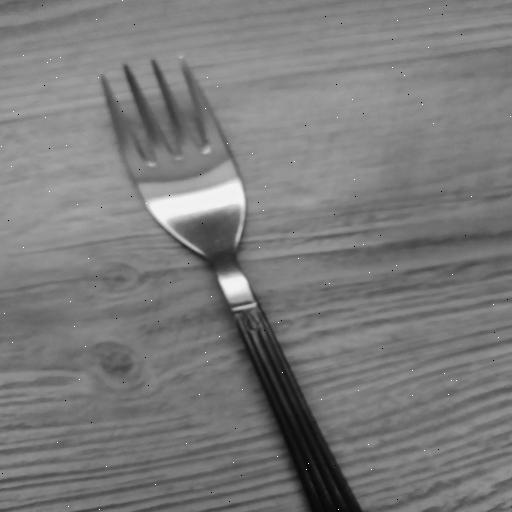fork: (94, 50, 357, 512)
